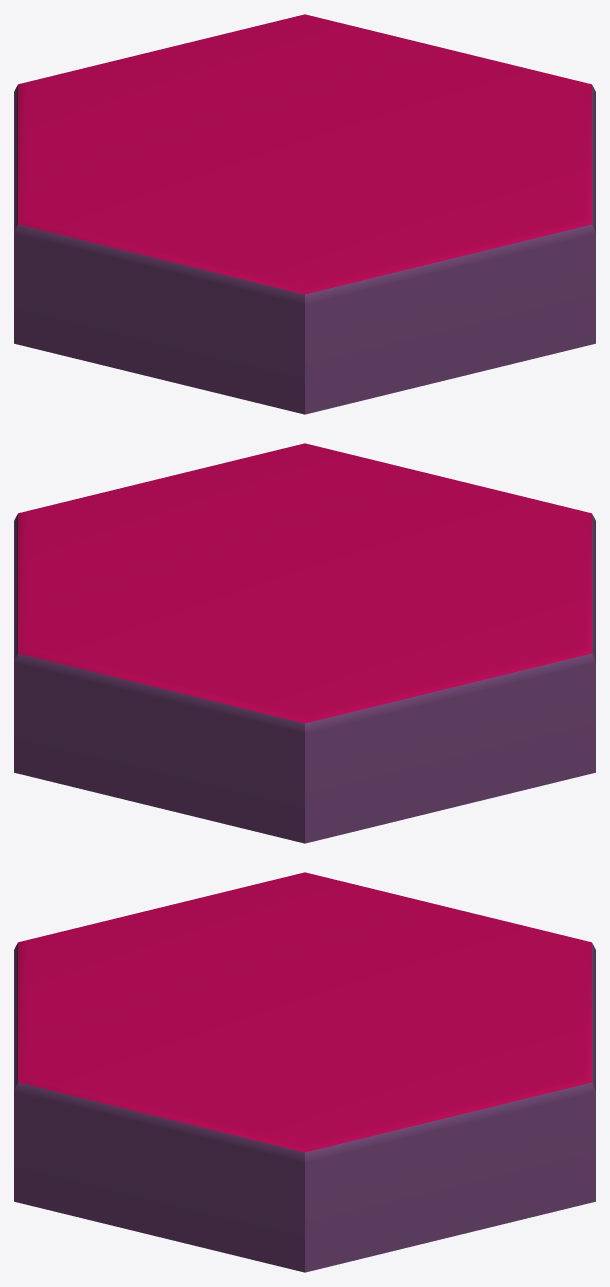
Rendered from SM_Hexagone_01.fbx.
The picture shows the model from 3 angles, top to bottom: view 1: azimuth 30°, elevation 25°; view 2: azimuth 150°, elevation 25°; view 3: azimuth 270°, elevation 25°; orthographic projection.
Parts seen in each view (by area): view 1: SM_Hexagone_01; view 2: SM_Hexagone_01; view 3: SM_Hexagone_01.
Part boxes in pixels (left/top/right/bottom): SM_Hexagone_01: left=14, top=14, right=595, bottom=414; SM_Hexagone_01: left=14, top=443, right=595, bottom=843; SM_Hexagone_01: left=14, top=872, right=595, bottom=1272.
Size of the model in its own units: 100 by 20 by 86.6.
